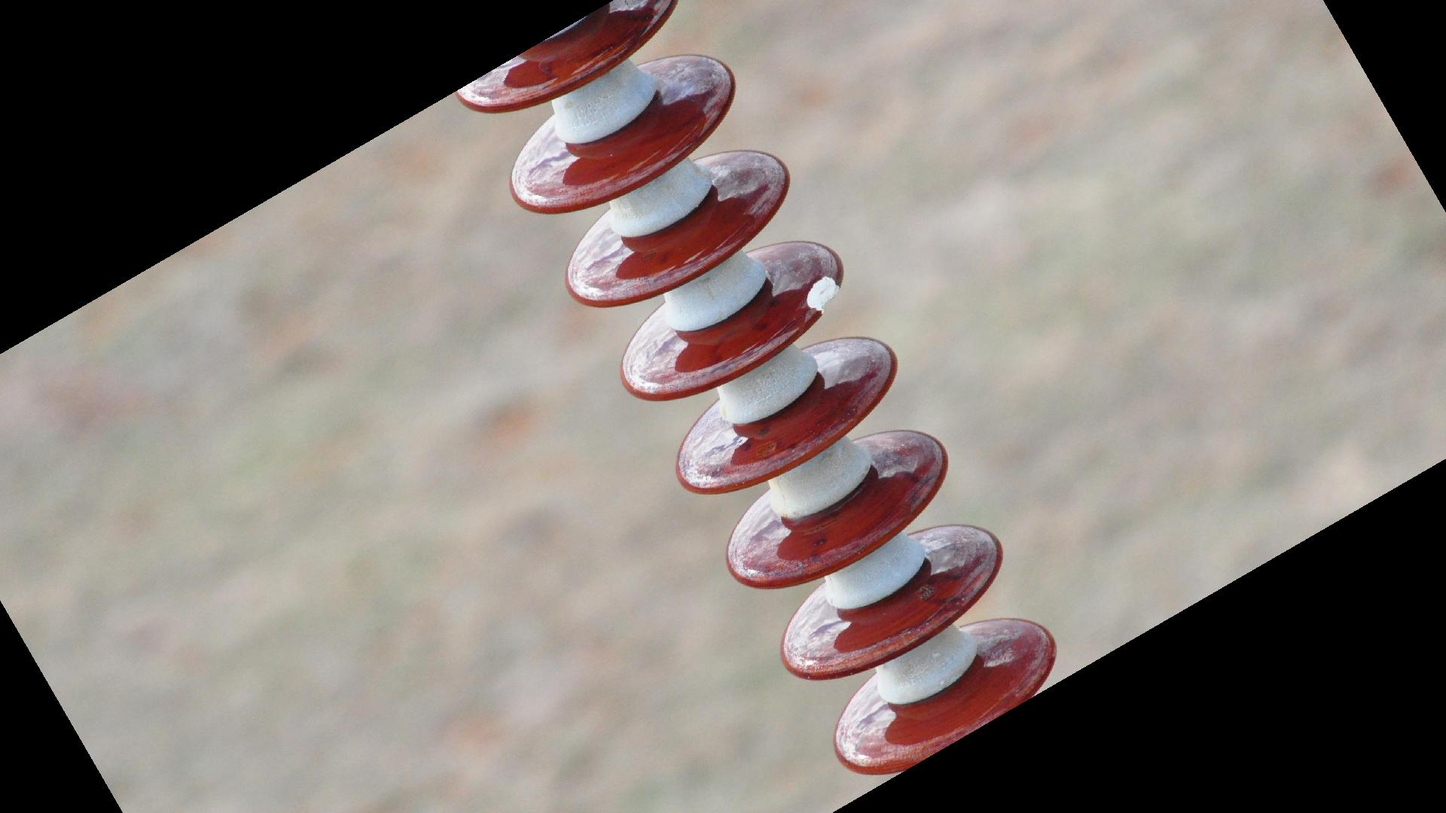insulator: (444, 1, 1068, 784)
insulator_breakage: (794, 271, 846, 324)
